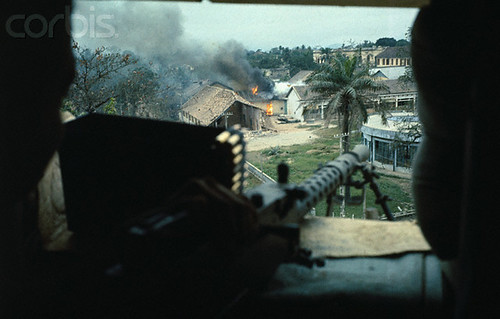building: (176, 87, 275, 138), (287, 83, 420, 119), (361, 114, 425, 168)
fire: (247, 78, 282, 117)
sky: (204, 2, 409, 39)
smoke: (70, 1, 282, 99)
tree: (301, 49, 386, 180)
weapon: (101, 149, 377, 319)
